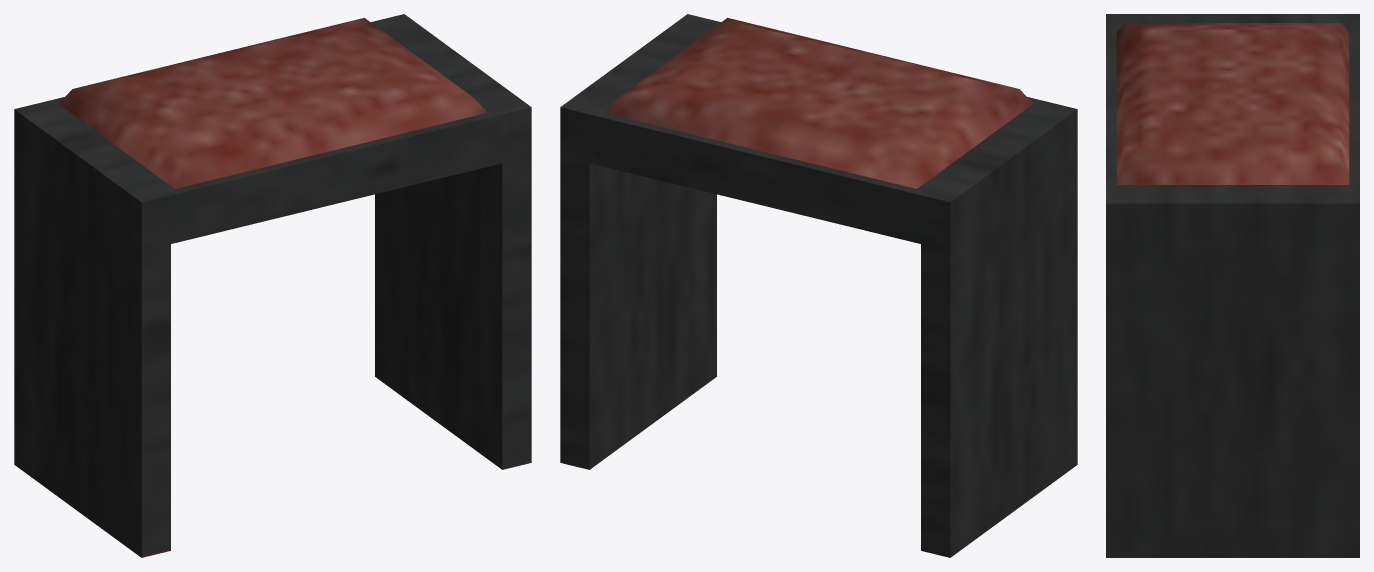
Rendered from int_seat.fbx.
3 renders of one model, left to right at view 1: azimuth 30°, elevation 25°; view 2: azimuth 150°, elevation 25°; view 3: azimuth 270°, elevation 25°, orthographic.
Parts seen in each view (by area): view 1: stool.002; view 2: stool.002; view 3: stool.002.
Boxes of the visible parts, left/top/right/bottom form: stool.002: left=14, top=14, right=531, bottom=557; stool.002: left=560, top=14, right=1077, bottom=557; stool.002: left=1106, top=14, right=1359, bottom=557.
Size of the model in its own units: 80.15 by 74.78 by 45.35.
